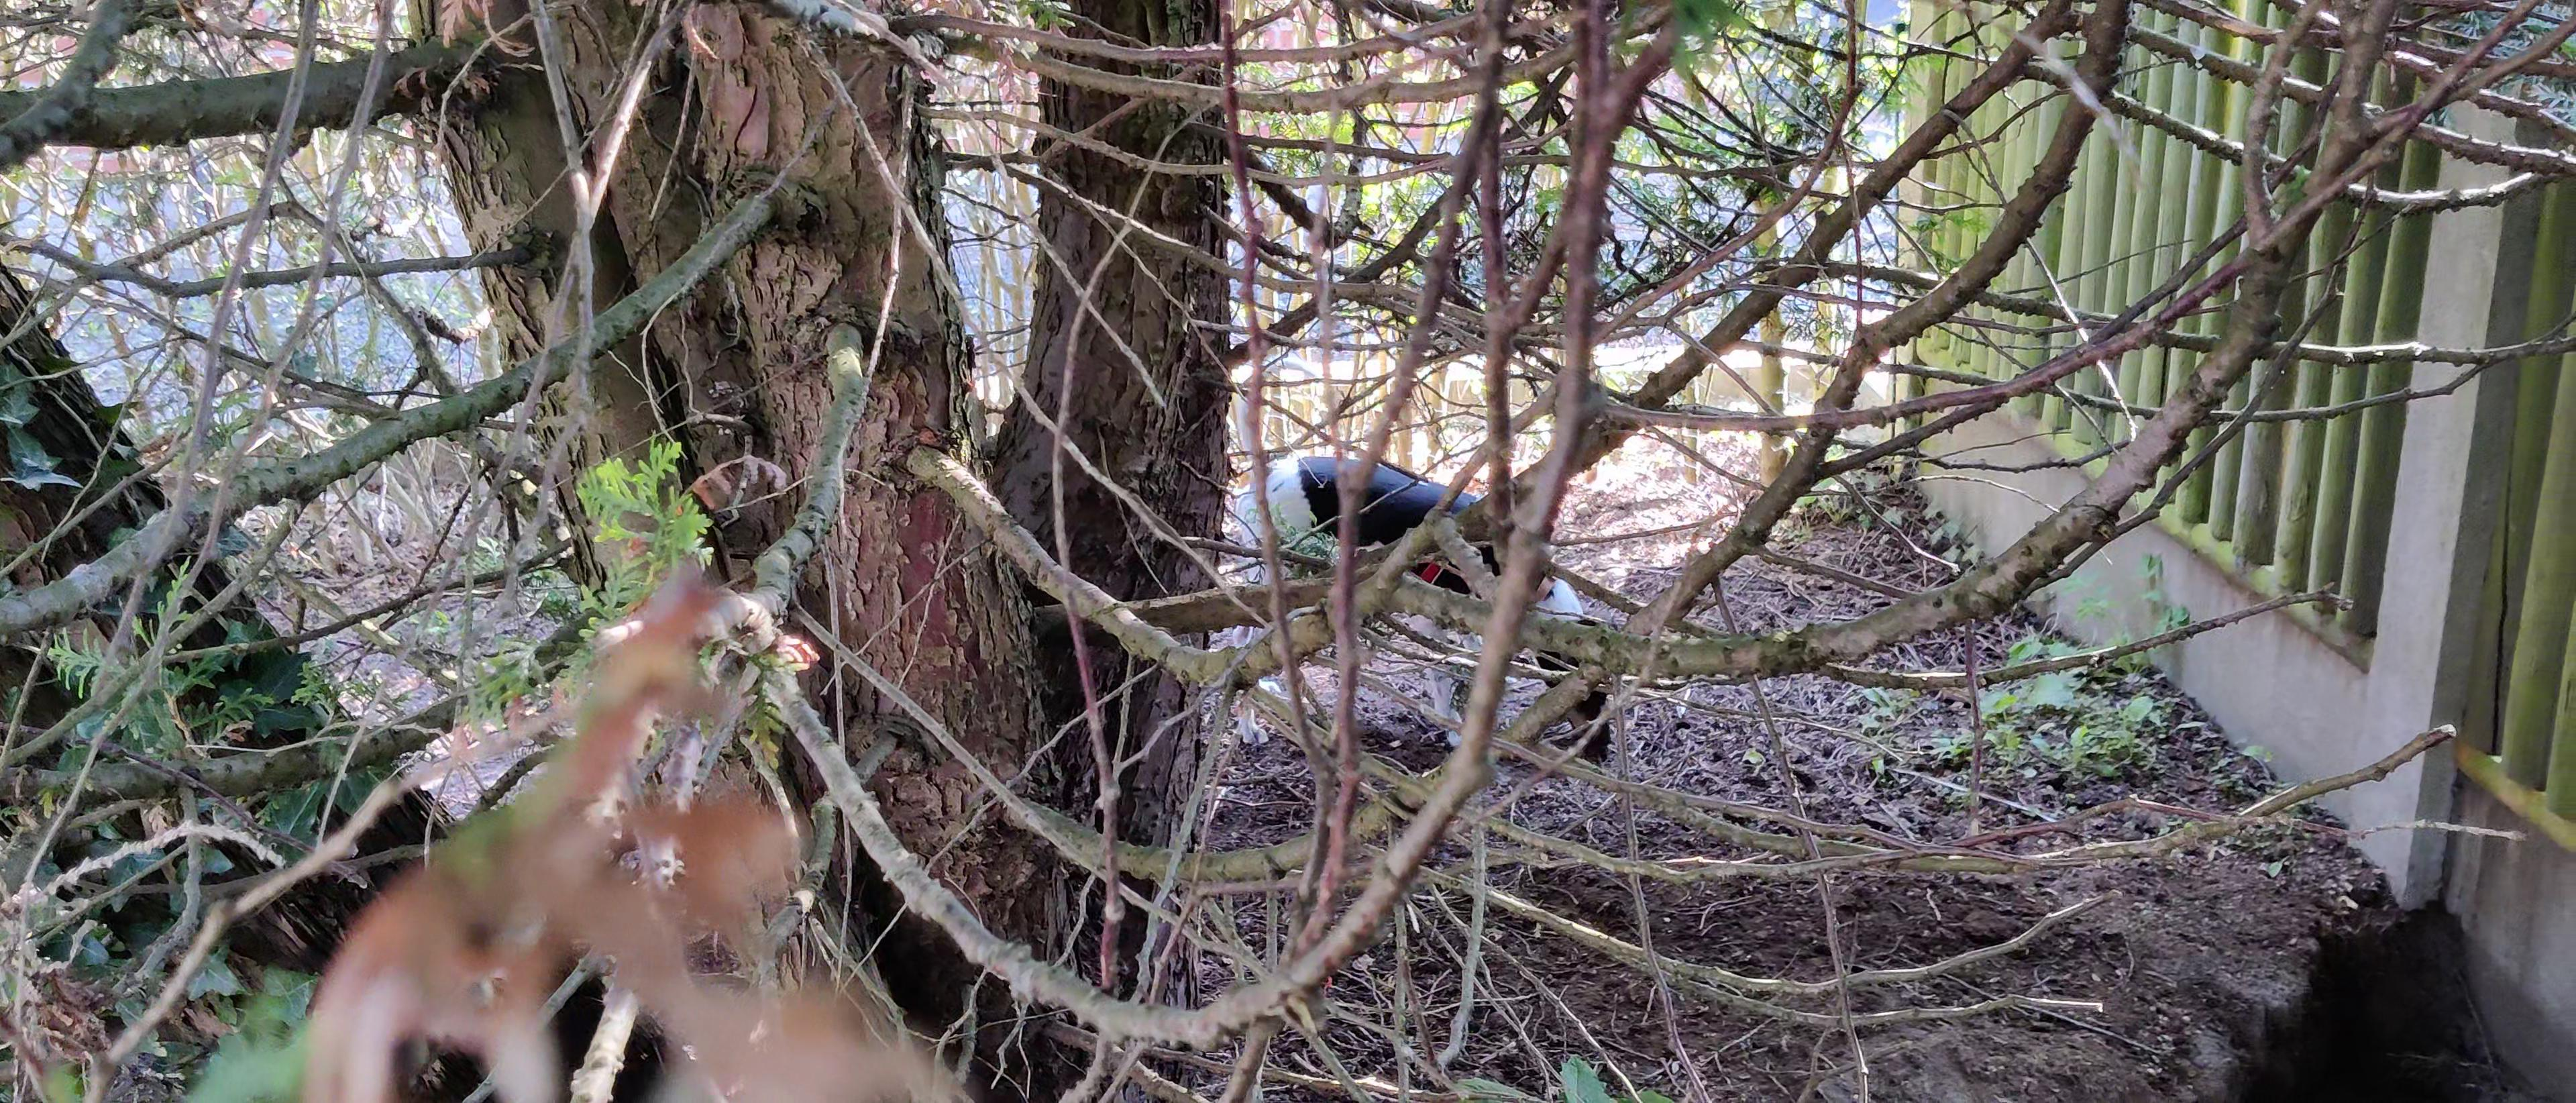Dog: (1212, 352, 1620, 778)
